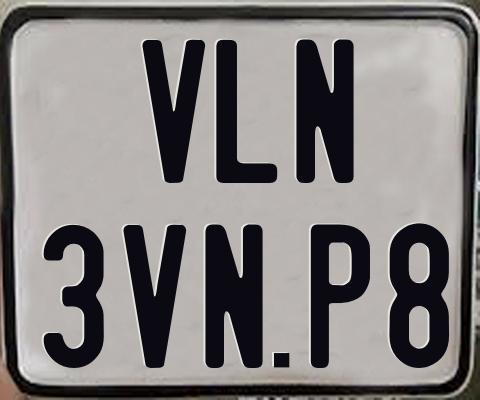3: (43, 222, 105, 371)
8: (389, 223, 453, 373)
L: (215, 40, 278, 183)
N: (205, 223, 267, 372), (294, 36, 354, 185)
P: (311, 223, 374, 372)
V: (139, 38, 206, 181), (123, 222, 186, 369)
